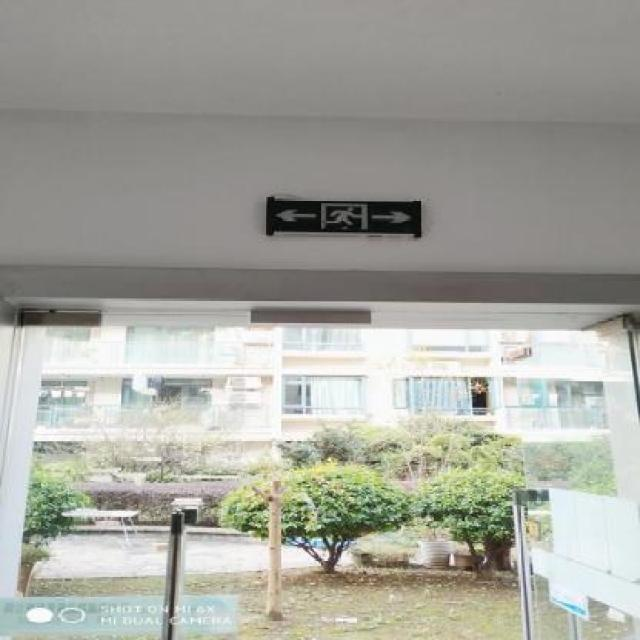exit_sign: (248, 191, 444, 249)
